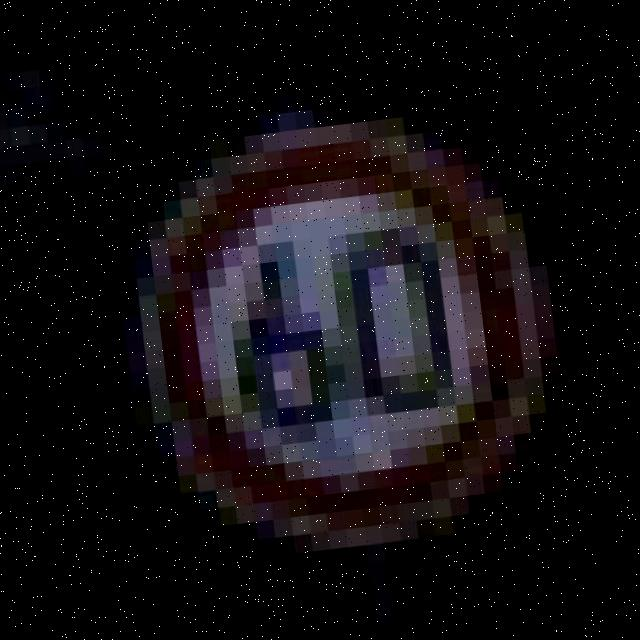Ograniczenie predkosci do 60: (130, 116, 545, 554)
